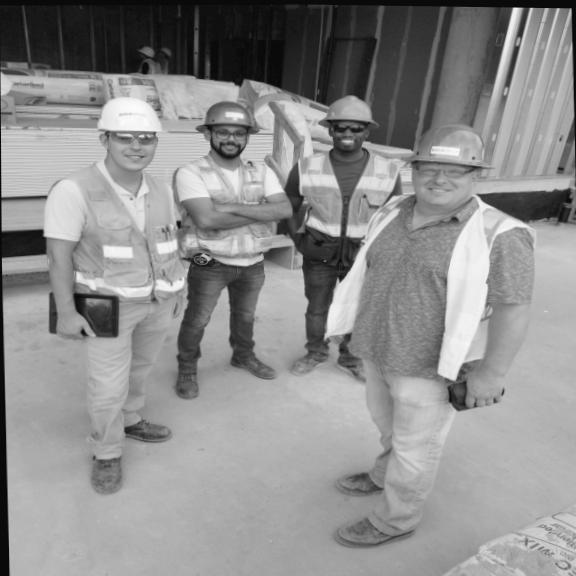safety_vest: (321, 194, 527, 384), (34, 162, 188, 317), (176, 147, 291, 273), (292, 147, 404, 249)
